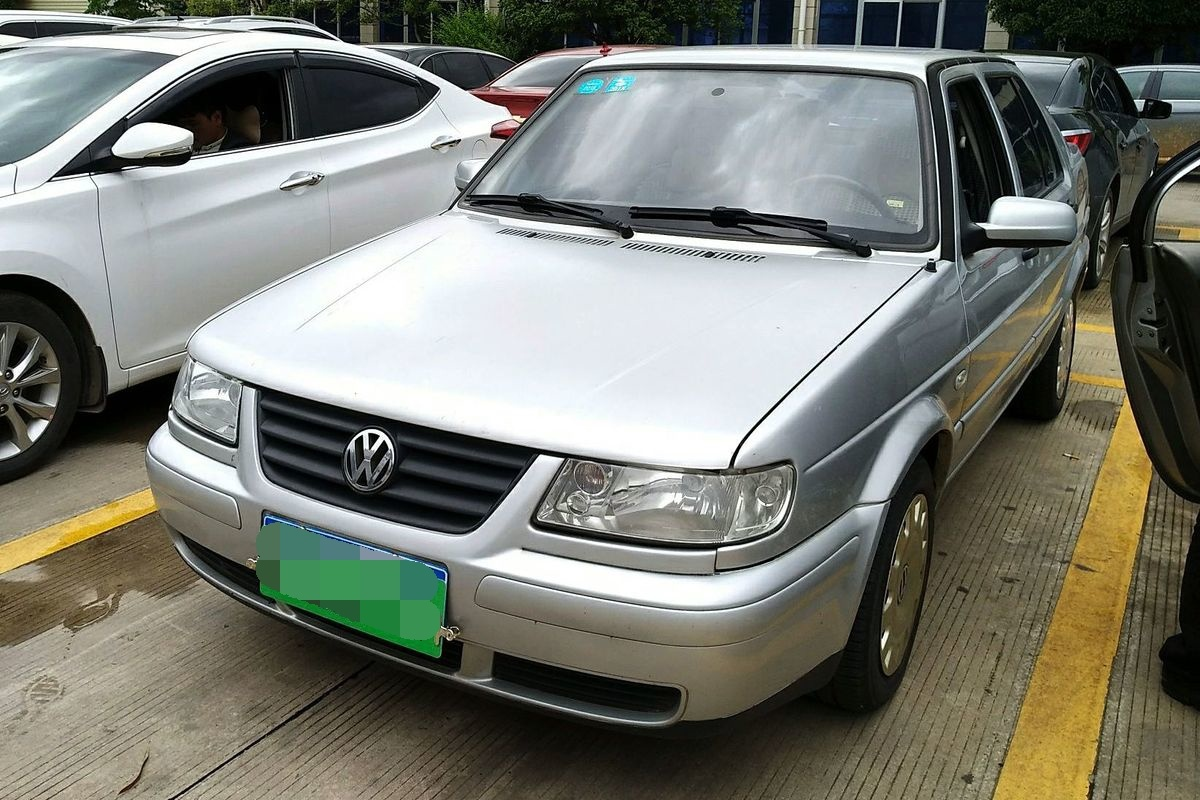family sedan: (174, 38, 1090, 728)
